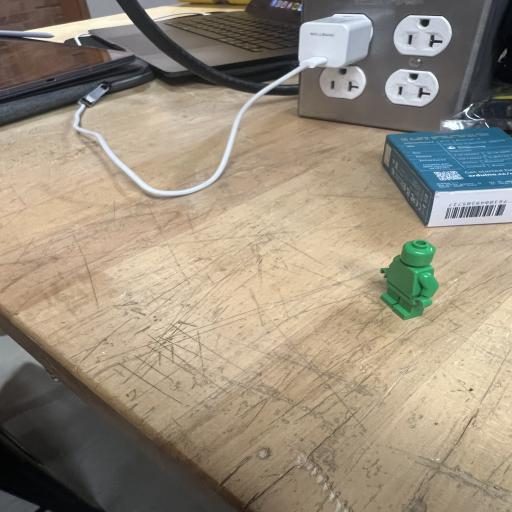green-lego-minifigure-detector: (381, 240, 439, 319)
